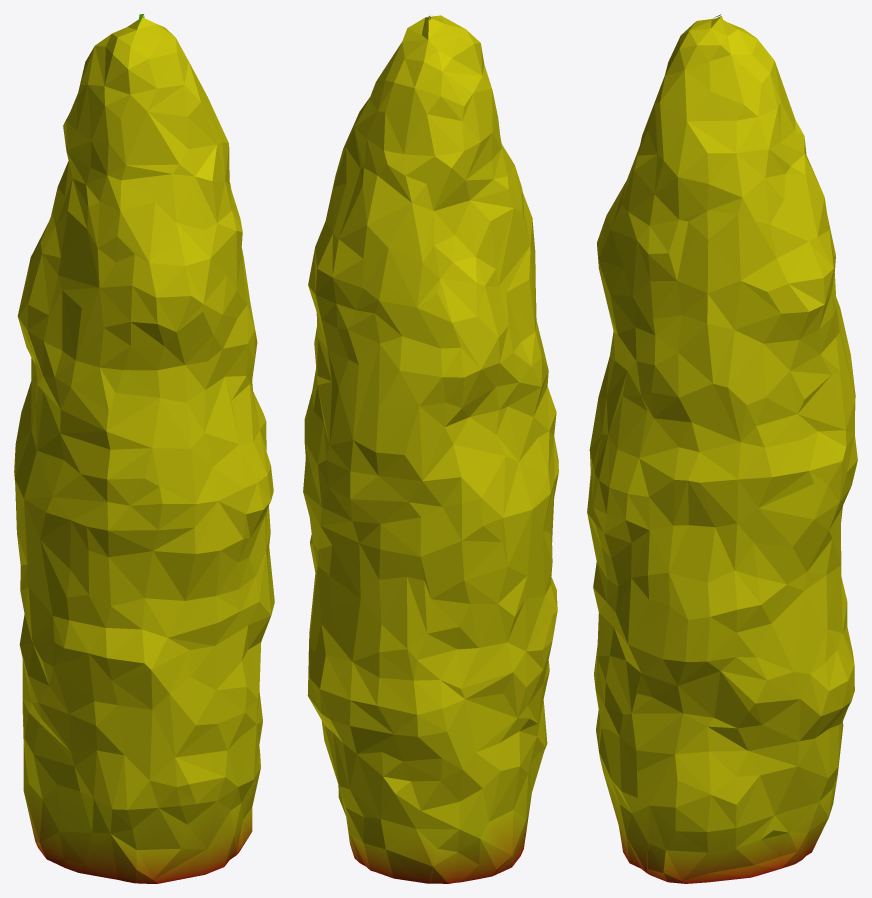
Rendered from canyon_pillar_2.glb.
3 views of the same model, side by side, from view 1: azimuth 30°, elevation 25°; view 2: azimuth 150°, elevation 25°; view 3: azimuth 270°, elevation 25° (orthographic).
Parts seen in each view (by area): view 1: canyon_pillar_2.002; view 2: canyon_pillar_2.002; view 3: canyon_pillar_2.002.
Part boxes in pixels (x1,y1,x2,y2): canyon_pillar_2.002: (14,14,274,883); canyon_pillar_2.002: (303,15,558,883); canyon_pillar_2.002: (587,14,857,883).
Size of what is drawn, in the model's own units: 11.08 by 39.1 by 11.56.
